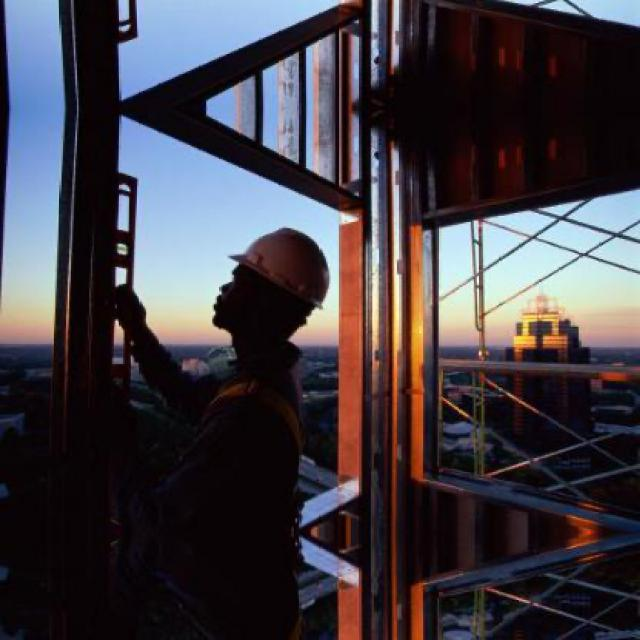helmet: (214, 210, 343, 362)
